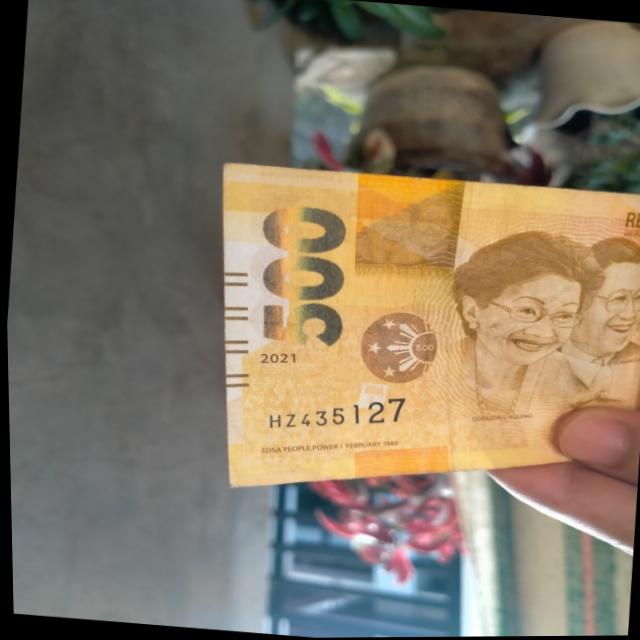concealed_value: (346, 170, 468, 284)
optically_variable_device: (345, 299, 446, 396)
serial_number: (253, 380, 414, 441)
value: (233, 194, 362, 360)
